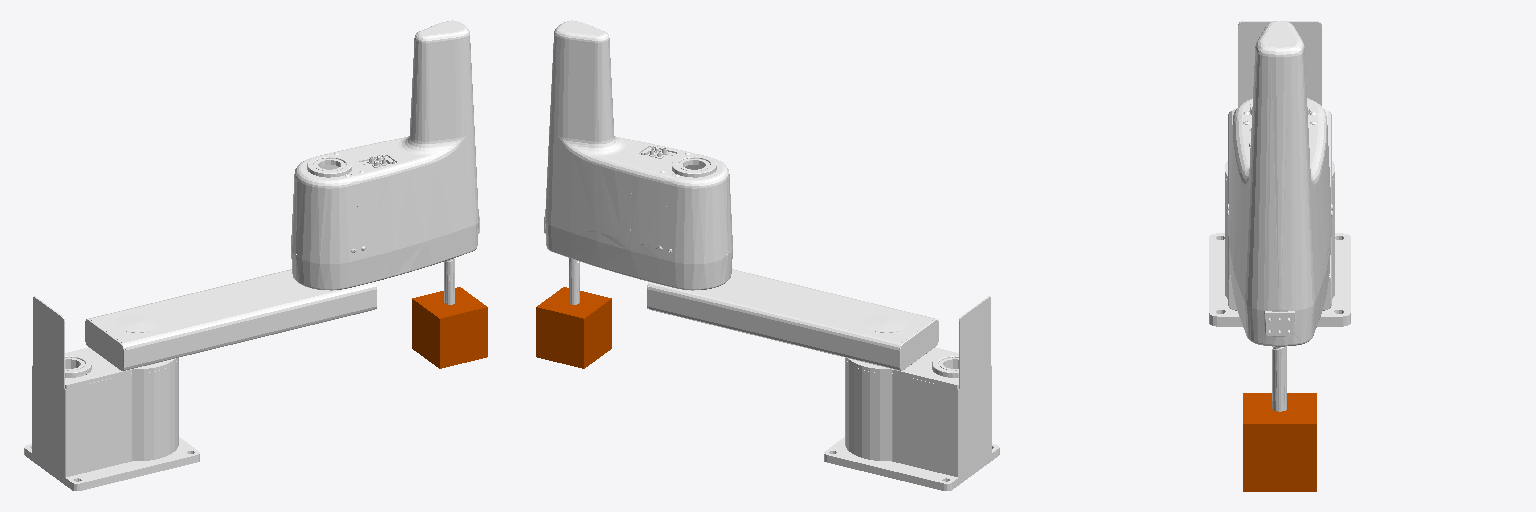
URDF robot description (scara):
<?xml version="1.0"?>
<robot
  name="scara">
  <link
    name="root">
    <visual>
      <origin
        xyz="0 0 0"
        rpy="0 0 0" />
      <geometry>
        <mesh
          filename="package://description/meshes/base_link.STL" />
      </geometry>
      <material
        name="">
        <color
          rgba="1 1 1 1" />
      </material>
    </visual>
    <collision>
      <origin
        xyz="0 0 0"
        rpy="0 0 0" />
      <geometry>
        <mesh
          filename="package://description/meshes/base_link.STL" />
      </geometry>
    </collision>
  </link>
  <link
    name="Link_1">
    <inertial>
      <origin
        xyz="0.19562 -7.6778E-09 -0.026915"
        rpy="0 0 0" />
      <mass
        value="3.9067" />
      <inertia
        ixx="0.0071958"
        ixy="-2.1719E-11"
        ixz="0.00031641"
        iyy="0.090992"
        iyz="-2.4416E-12"
        izz="0.096353" />
    </inertial>
    <visual>
      <origin
        xyz="0 0 0"
        rpy="0 0 0" />
      <geometry>
        <mesh
          filename="package://description/meshes/Link_1.STL" />
      </geometry>
      <material
        name="">
        <color
          rgba="1 1 1 1" />
      </material>
    </visual>
    <collision>
      <origin
        xyz="0 0 0"
        rpy="0 0 0" />
      <geometry>
        <mesh
          filename="package://description/meshes/Link_1.STL" />
      </geometry>
    </collision>
  </link>
  <joint
    name="Joint_1"
    type="revolute">
    <origin
      xyz="0 0 0.254"
      rpy="0 0 0" />
    <parent
      link="root" />
    <child
      link="Link_1" />
    <axis
      xyz="0 0 1" />
    <limit
      lower="-1.0472"
      upper="1.0472"
      effort="2548.0"
      velocity="0.261799383" />
  </joint>
  <link
    name="Link_2">
    <inertial>
      <origin
        xyz="0.10989 -4.2606E-05 0.067917"
        rpy="0 0 0" />
      <mass
        value="4.2305" />
      <inertia
        ixx="0.027444"
        ixy="-4.6311E-06"
        ixz="-0.0052217"
        iyy="0.064522"
        iyz="2.508E-05"
        izz="0.048287" />
    </inertial>
    <visual>
      <origin
        xyz="0 0 0"
        rpy="0 0 0" />
      <geometry>
        <mesh
          filename="package://description/meshes/Link_2.STL" />
      </geometry>
      <material
        name="">
        <color
          rgba="1 1 1 1" />
      </material>
    </visual>
    <collision>
      <origin
        xyz="0 0 0"
        rpy="0 0 0" />
      <geometry>
        <mesh
          filename="package://description/meshes/Link_2.STL" />
      </geometry>
    </collision>
  </link>
  <joint
    name="Joint_2"
    type="revolute">
    <origin
      xyz="0.4 0 0"
      rpy="0 0 0" />
    <parent
      link="Link_1" />
    <child
      link="Link_2" />
    <axis
      xyz="0 0 1" />
    <limit
      lower="-1.0472"
      upper="1.0472"
      effort="2548.0"
      velocity="0.261799383" />
  </joint>
  <link
    name="Link_3">
    <inertial>
      <origin
        xyz="3.4238E-06 0.0004897 -0.18826"
        rpy="0 0 0" />
      <mass
        value="0.10681" />
      <inertia
        ixx="0.00233"
        ixy="-2.6775E-11"
        ixz="5.5304E-08"
        iyy="0.0023302"
        iyz="-4.6131E-06"
        izz="1.1087E-05" />
    </inertial>
    <visual>
      <origin
        xyz="0 0 0"
        rpy="3.1415926 0 0" />
      <geometry>
        <mesh
          filename="package://description/meshes/Link_3.STL" />
      </geometry>
      <material
        name="">
        <color
          rgba="1 1 1 1" />
      </material>
    </visual>
    <collision>
      <origin
        xyz="0 0 0"
        rpy="0 0 0" />
      <geometry>
        <mesh
          filename="package://description/meshes/Link_3.STL" />
      </geometry>
    </collision>
  </link>
  <joint
    name="Joint_3"
    type="prismatic">
    <origin
      xyz="0.25 0 -0.16"
      rpy="0 0 0" />
    <parent
      link="Link_2" />
    <child
      link="Link_3" />
    <axis
      xyz="0 0 -1" />
    <limit
      lower="0"
      upper="0.16"
      effort="2548.0"
      velocity="0.1" />
  </joint>
  <link
    name="Link_4">
    <inertial>
      <origin
        xyz="3.4238E-06 0.0004897 -0.18826"
        rpy="0 0 0" />
      <mass
        value="0.10681" />
      <inertia
        ixx="0.00233"
        ixy="-2.6775E-11"
        ixz="5.5304E-08"
        iyy="0.0023302"
        iyz="-4.6131E-06"
        izz="1.1087E-05" />
    </inertial>
    <visual>
      <origin
        xyz="0 0 0"
        rpy="3.1415926 0 0" />
      <geometry>
        <mesh
          filename="package://description/meshes/Link_4.STL" />
      </geometry>
      <material
        name="">
        <color
          rgba="1 1 1 1" />
      </material>
    </visual>
    <collision>
      <origin
        xyz="0 0 0"
        rpy="0 0 0" />
      <geometry>
        <mesh
          filename="package://description/meshes/Link_4.STL" />
      </geometry>
    </collision>
  </link>
  <joint
    name="Joint_4"
    type="revolute">
    <origin
      xyz="0 0 0"
      rpy="0 0 0" />
    <parent
      link="Link_3" />
    <child
      link="Link_4" />
    <axis
      xyz="0 0 -1" />
    <limit
      lower="-1.0472"
      upper="1.0472"
      effort="2548.0"
      velocity="0.261799383" />
  </joint>
  <link name="tool">
	<visual>
		<geometry>
			<box size="0.1 0.1 0.1"/>
		</geometry>
		<origin rpy="0 0 0" xyz="0 0 0"/>
		<material name="white" />
	</visual>
	<collision>
		<geometry>
			<box size="0.1 0.1 0.1"/>
		</geometry>
		<origin rpy="0 0 0" xyz="0 0 0"/>
	</collision>
  </link>
  <joint name="jointT" type="fixed">
	<parent link="Link_4"/>
	<child link="tool"/>
	<origin xyz="0 0 0" rpy="0 0 0" />
  </joint>
</robot>

--- Facts derived from the render (not from the file) ---
3 views of the same robot in one strip: view 1: azimuth 30°, elevation 25°; view 2: azimuth 150°, elevation 25°; view 3: azimuth 270°, elevation 25° (orthographic).
Model scara with 6 links and 5 joints (3 revolute, 1 prismatic, 1 fixed), rooted at root, posed all joints at 0.
Links seen in each view (by area): view 1: Link_2, root, Link_1, tool; view 2: Link_2, root, Link_1, tool; view 3: Link_2, root, tool, Link_1, Link_4.
Boxes of the visible links, x1,y1,x2,y2 form: Link_2: (291,20,479,290); root: (24,296,199,490); Link_1: (85,269,376,370); tool: (412,287,487,368); Link_2: (544,20,732,290); root: (824,296,999,490); Link_1: (647,269,938,370); tool: (536,287,611,368); Link_2: (1227,21,1332,346); root: (1209,21,1350,326); tool: (1243,393,1316,491); Link_1: (1228,109,1331,310); Link_4: (1272,346,1286,411).
Bounding box of the posed robot: 0.8875 × 0.19 × 0.6915 m (x, y, z).
4 mesh visuals loaded from 5 distinct referenced files (4 binary STL); not drawn: 1 (reference not matched to a file when rendering).